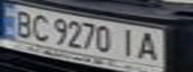0: (93, 22, 118, 54)
2: (63, 18, 84, 48)
7: (81, 20, 97, 52)
9: (48, 16, 72, 46)
A: (133, 29, 166, 62)
B: (9, 8, 39, 38)
C: (27, 11, 54, 42)
I: (115, 26, 142, 59)
